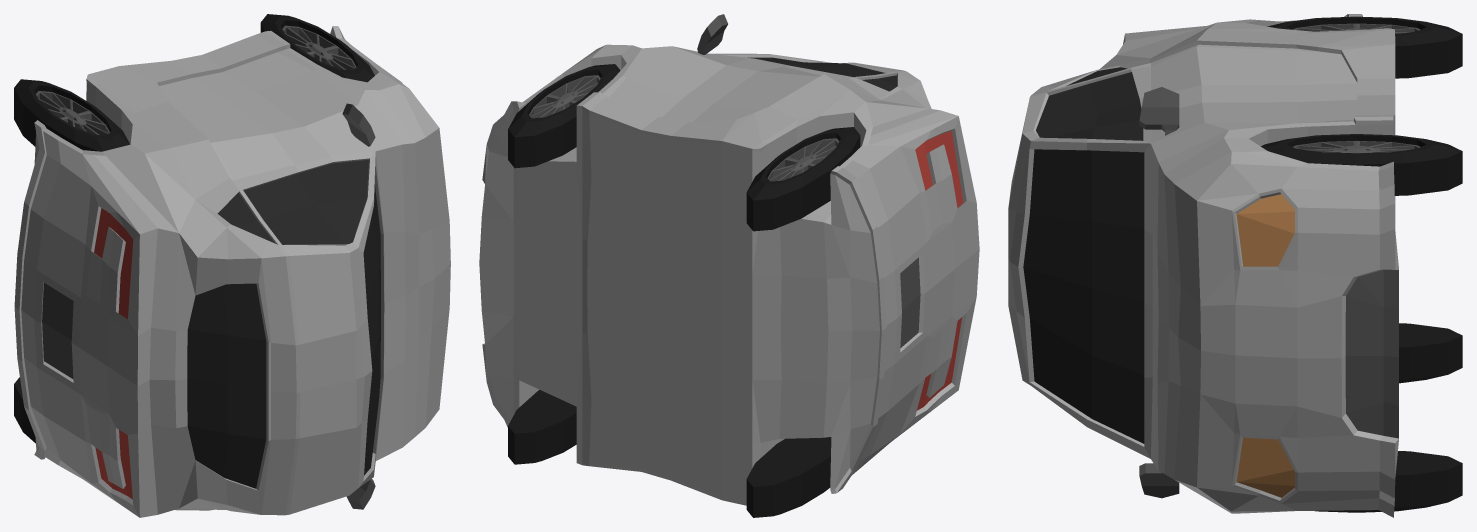
The model's file is coupe.glb.
3 renders of one model, left to right at view 1: azimuth 30°, elevation 25°; view 2: azimuth 150°, elevation 25°; view 3: azimuth 270°, elevation 25°, orthographic. The views are drawn at different scales.
Parts seen in each view (by area): view 1: vehicle/coupe; view 2: vehicle/coupe; view 3: vehicle/coupe.
Part boxes in pixels (<box>): vehicle/coupe: <box>14,14,450,517</box>; vehicle/coupe: <box>479,14,979,517</box>; vehicle/coupe: <box>1008,14,1462,517</box>.
Size of the model in its own units: 1 by 1 by 1.
